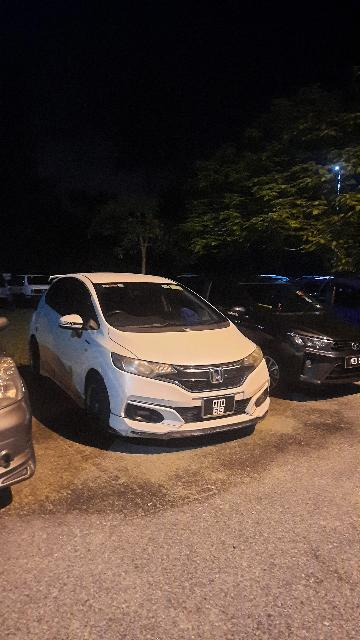License_Plate: (199, 390, 240, 420)
car: (30, 271, 275, 447)
